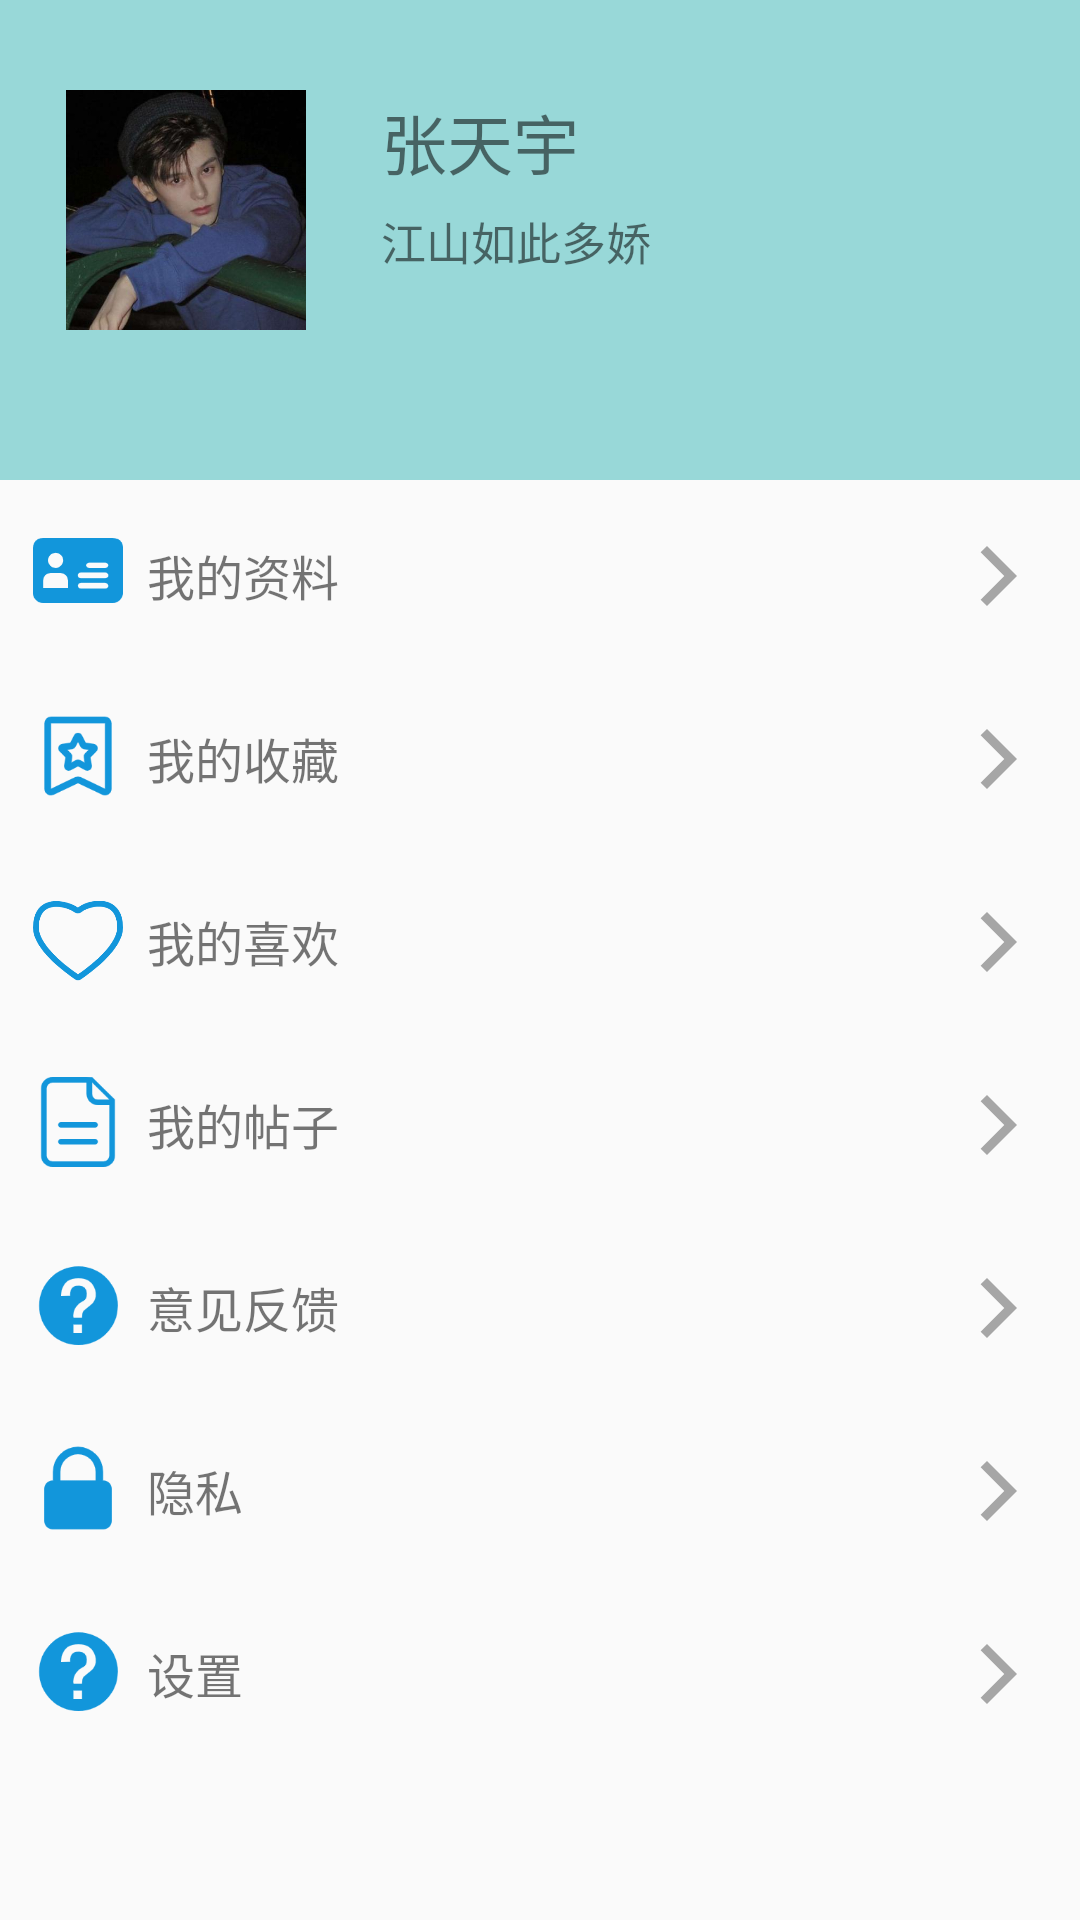

Locate icon controls on the screen. Image size 1080px×1920px, boxes as [left=x1, top=y1, right=x2, bottom=y2].
collection: [left=44, top=716, right=112, bottom=796]
mine love: [left=33, top=901, right=123, bottom=981]
privacy: [left=44, top=1446, right=112, bottom=1530]
text: [left=41, top=1077, right=115, bottom=1167]
